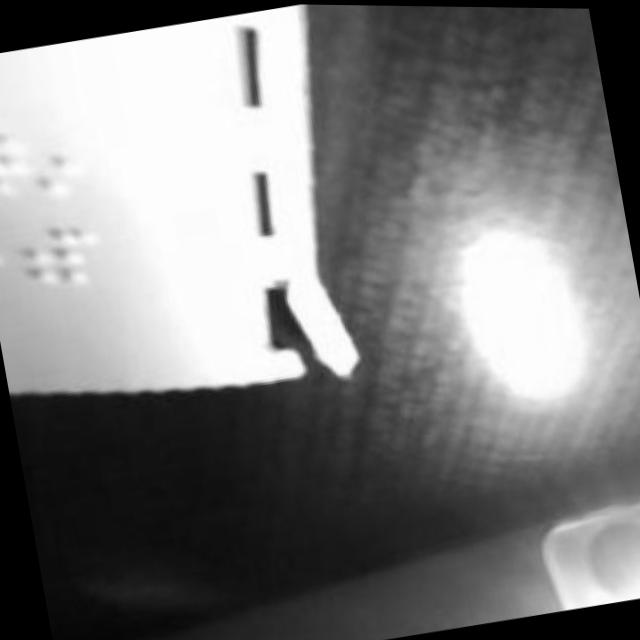braiile: (10, 213, 58, 299)
